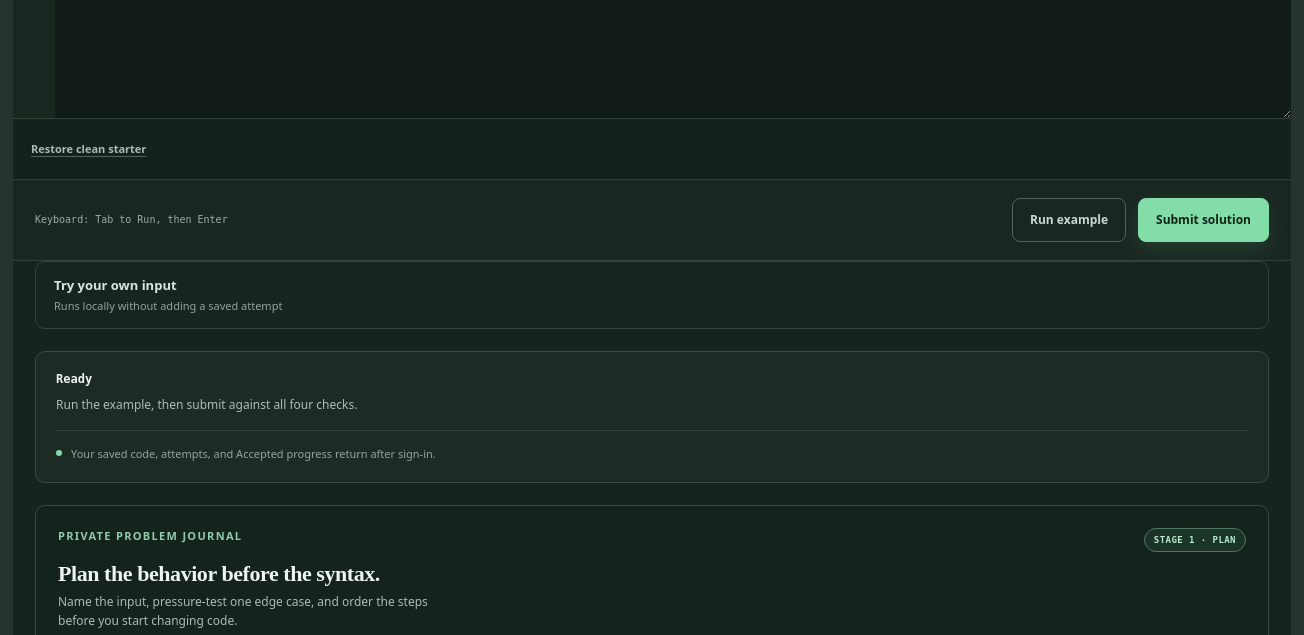
Scenario: CodingWorkspace › reports an unchecked case separately from an expected empty output
(page scrolled)
Click the text "Try your own input" at (115, 285), box [54,276,177,294]
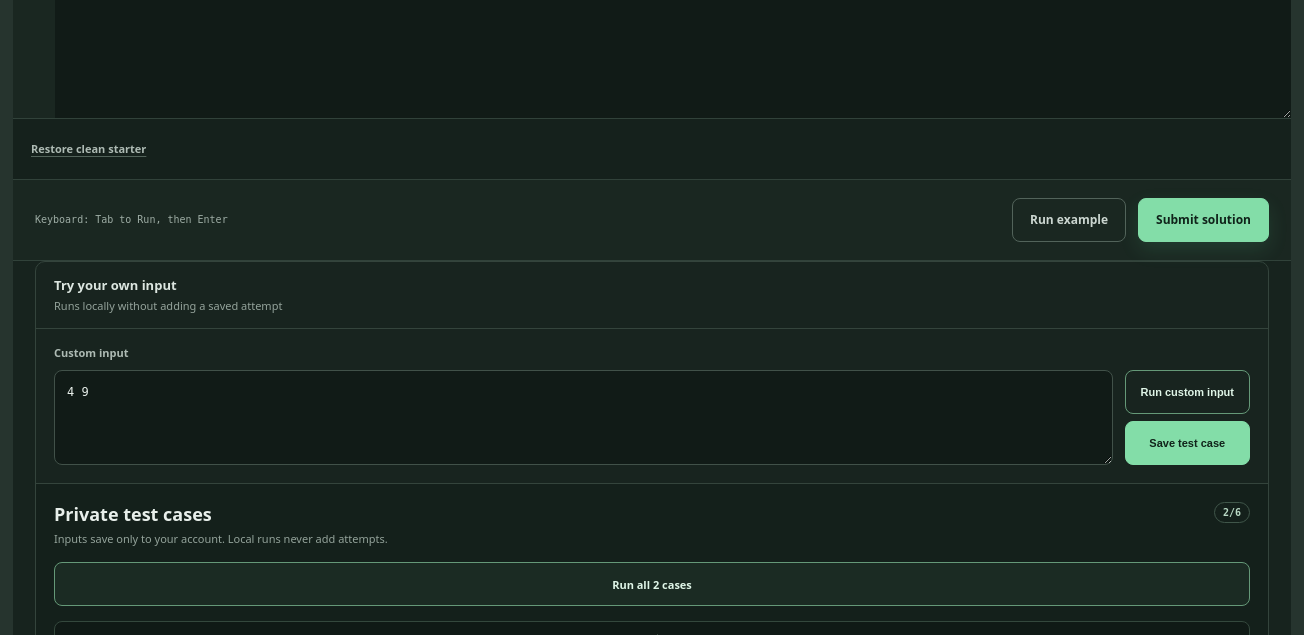
Click the button "Run all 2 cases" at (652, 584), box [54,562,1250,606]
(page scrolled)
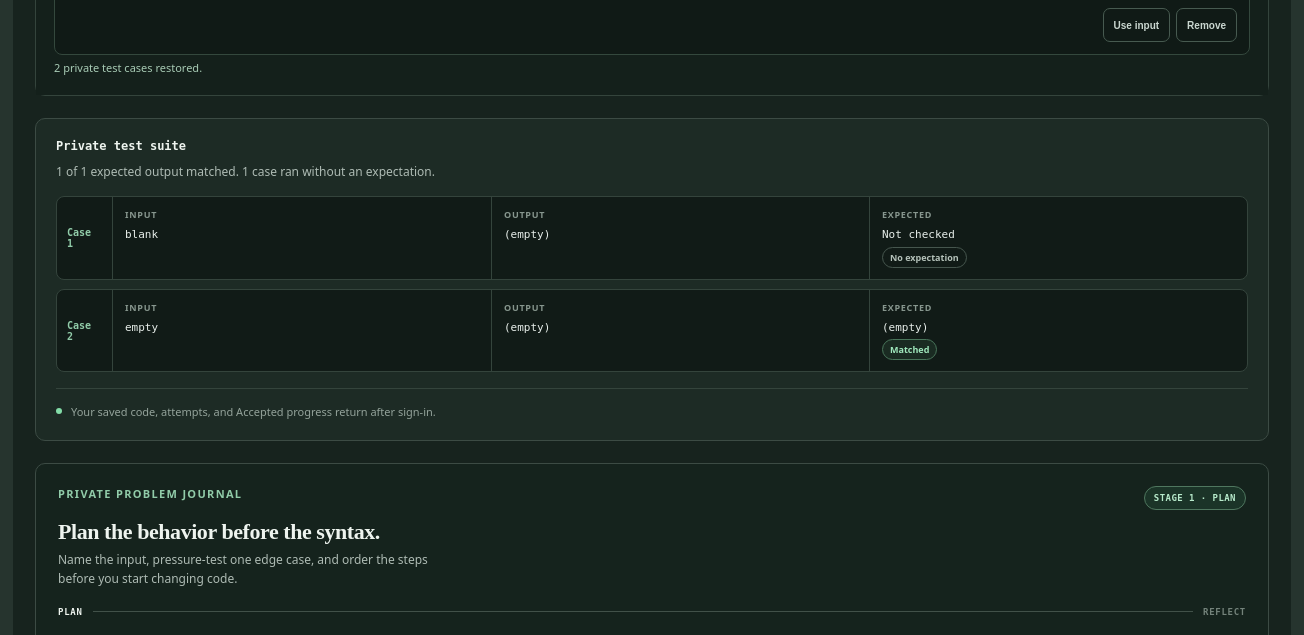
expect the message shows "1 of 1 expected output matched. 1 case ran without an expectation.": met, box [56,163,435,180]
